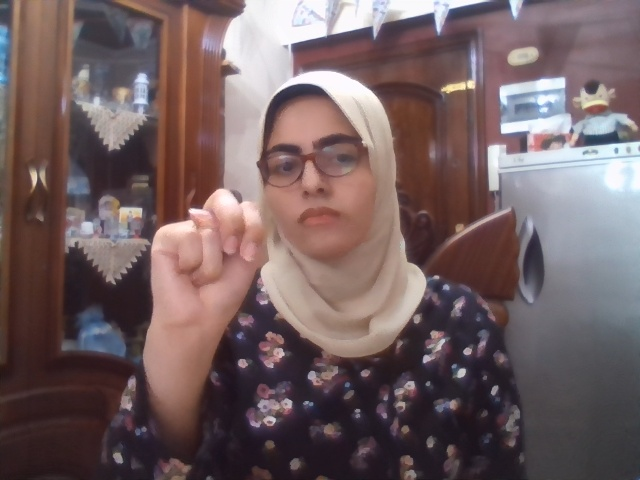N: (151, 189, 265, 327)
